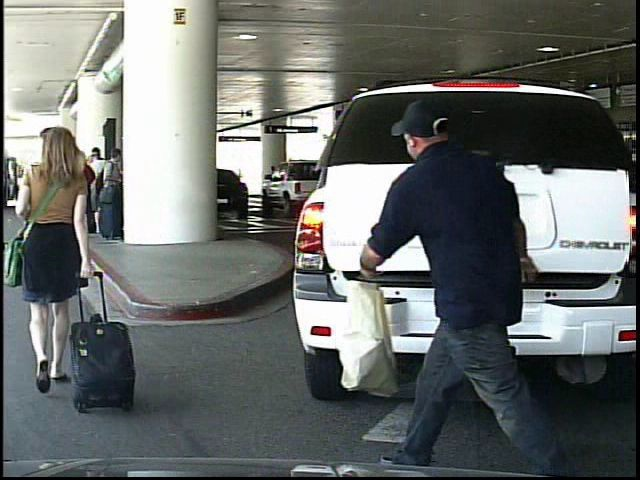person: (364, 69, 546, 471), (4, 121, 111, 418)
